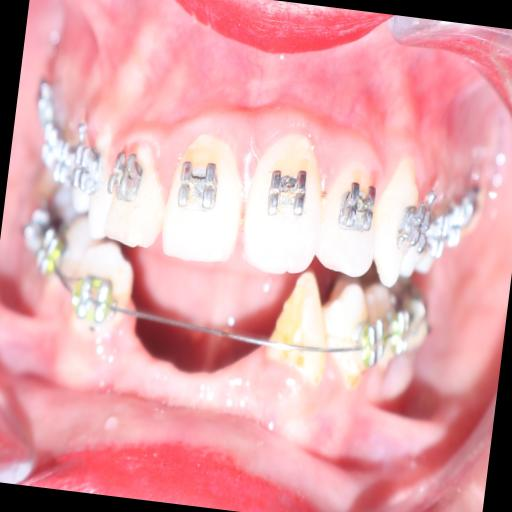correct_brace: (260, 158, 315, 225), (173, 147, 226, 216), (334, 174, 382, 244), (394, 194, 436, 264), (106, 142, 148, 208)
incorrect_brace: (314, 146, 388, 278), (98, 132, 172, 252)
